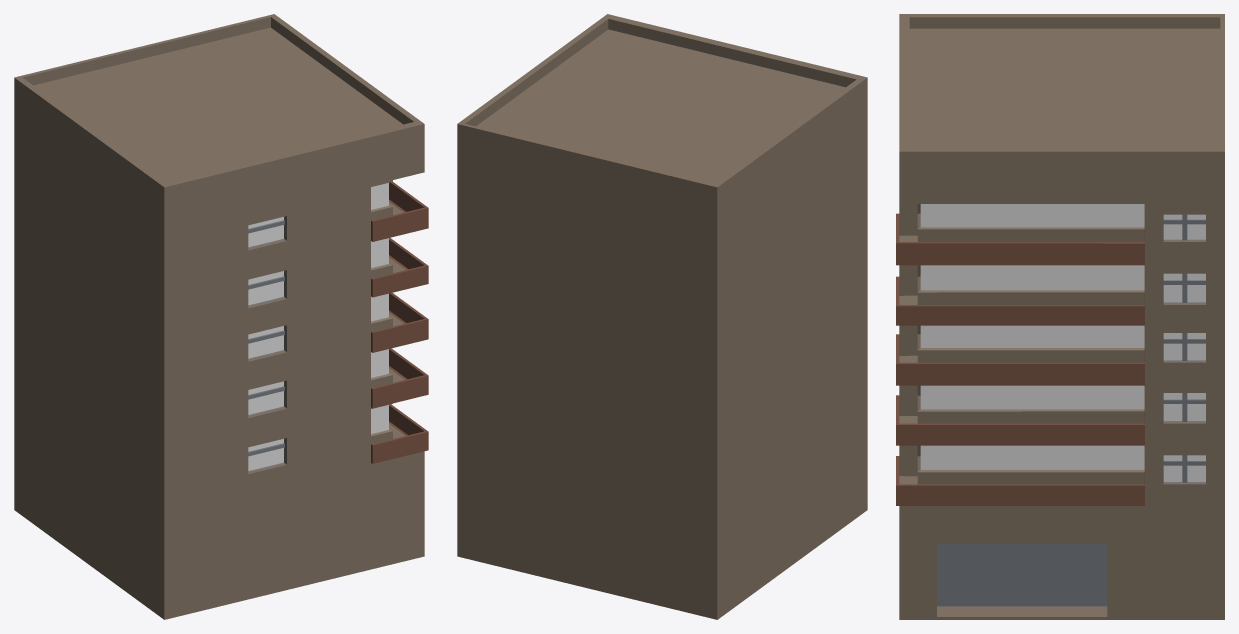
Rendered from Edificio2.fbx.
3 renders of one model, left to right at view 1: azimuth 30°, elevation 25°; view 2: azimuth 150°, elevation 25°; view 3: azimuth 270°, elevation 25°, orthographic. The views are drawn at different scales.
Visible parts, largest first — view 1: Cube; view 2: Cube; view 3: Cube.
Boxes of the visible parts, left/top/right/bottom form: Cube: left=14, top=14, right=428, bottom=619; Cube: left=457, top=14, right=867, bottom=619; Cube: left=896, top=14, right=1224, bottom=619.
Size of the model in its own units: 1475 by 2320 by 1475.
